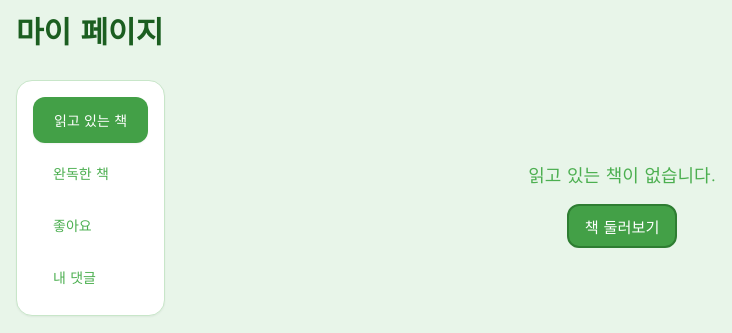
Test: MyPage Component › switches tabs
Expected: the text "읽고 있는 책이 없습니다." is shown, 528,160 -> 716,188
Click the button "좋아요": (91, 225) 33,203 -> 148,247
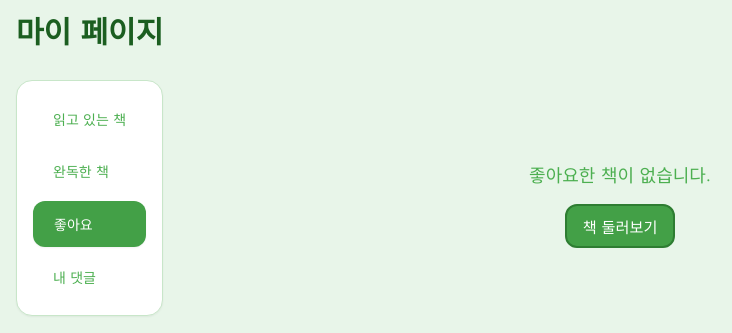
Result: the text "좋아요한 책이 없습니다." is shown at 529,160 -> 711,188
Click the button "내 댓글": (90, 277) 33,255 -> 146,299
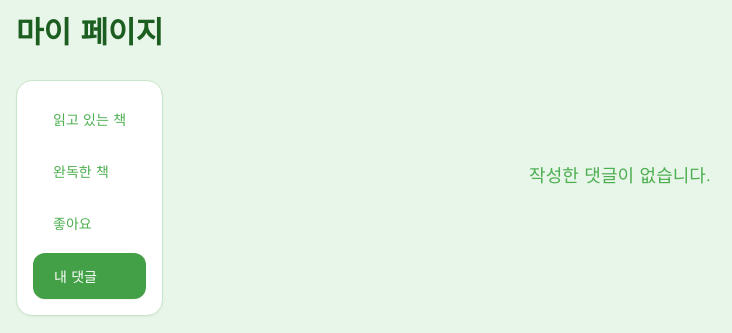
Result: the text "작성한 댓글이 없습니다." is shown at 529,160 -> 711,188
